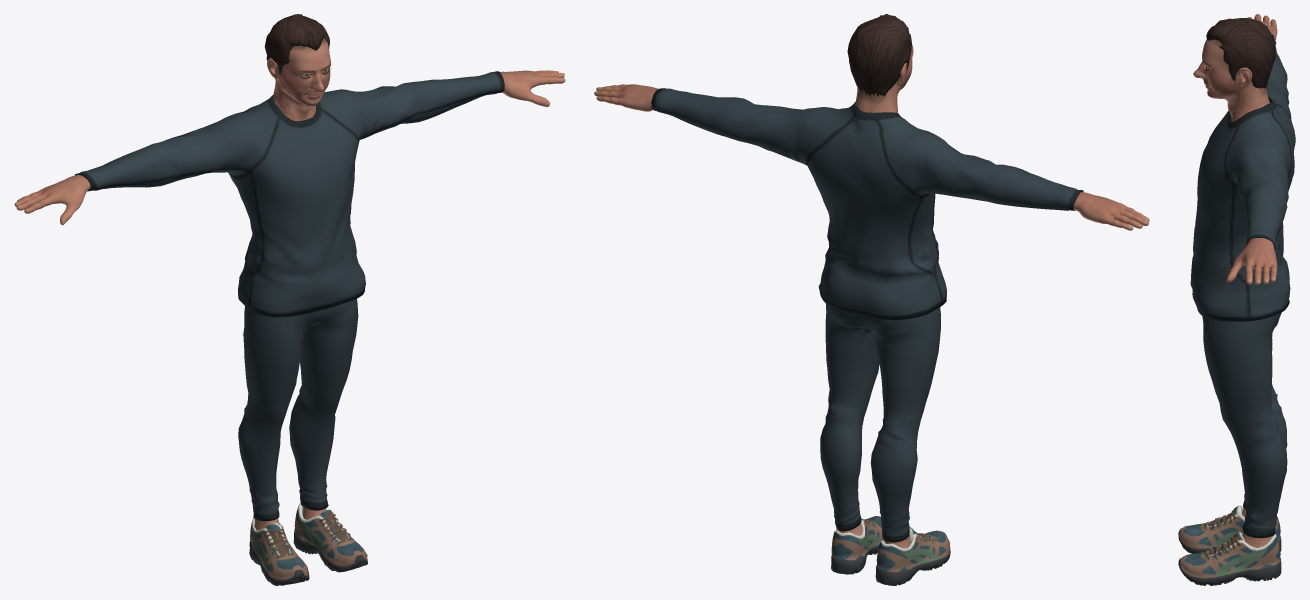
The model's file is Personal Trainer.obj.
The picture shows the model from 3 angles, left to right: view 1: azimuth 30°, elevation 25°; view 2: azimuth 150°, elevation 25°; view 3: azimuth 270°, elevation 25°; orthographic projection.
Parts seen in each view (by area): view 1: Tops, Bottoms, Body, Shoes, Hair; view 2: Tops, Bottoms, Shoes, Body, Hair; view 3: Tops, Bottoms, Shoes, Body, Hair.
Part boxes in pixels (x1=…): Tops: x1=74, y1=71, x2=504, y2=317; Bottoms: x1=238, y1=298, x2=358, y2=521; Body: x1=14, y1=38, x2=565, y2=530; Shoes: x1=249, y1=503, x2=367, y2=585; Hair: x1=264, y1=14, x2=329, y2=73; Tops: x1=651, y1=88, x2=1083, y2=320; Bottoms: x1=820, y1=276, x2=940, y2=542; Shoes: x1=831, y1=516, x2=950, y2=585; Body: x1=594, y1=44, x2=1149, y2=548; Hair: x1=847, y1=14, x2=911, y2=96; Tops: x1=1190, y1=34, x2=1295, y2=321; Bottoms: x1=1202, y1=312, x2=1287, y2=538; Shoes: x1=1178, y1=505, x2=1281, y2=585; Body: x1=1193, y1=14, x2=1277, y2=547; Hair: x1=1206, y1=18, x2=1275, y2=88.
Size of the model in its own units: 194 by 183 by 35.87.
1 material, 1 textured.
